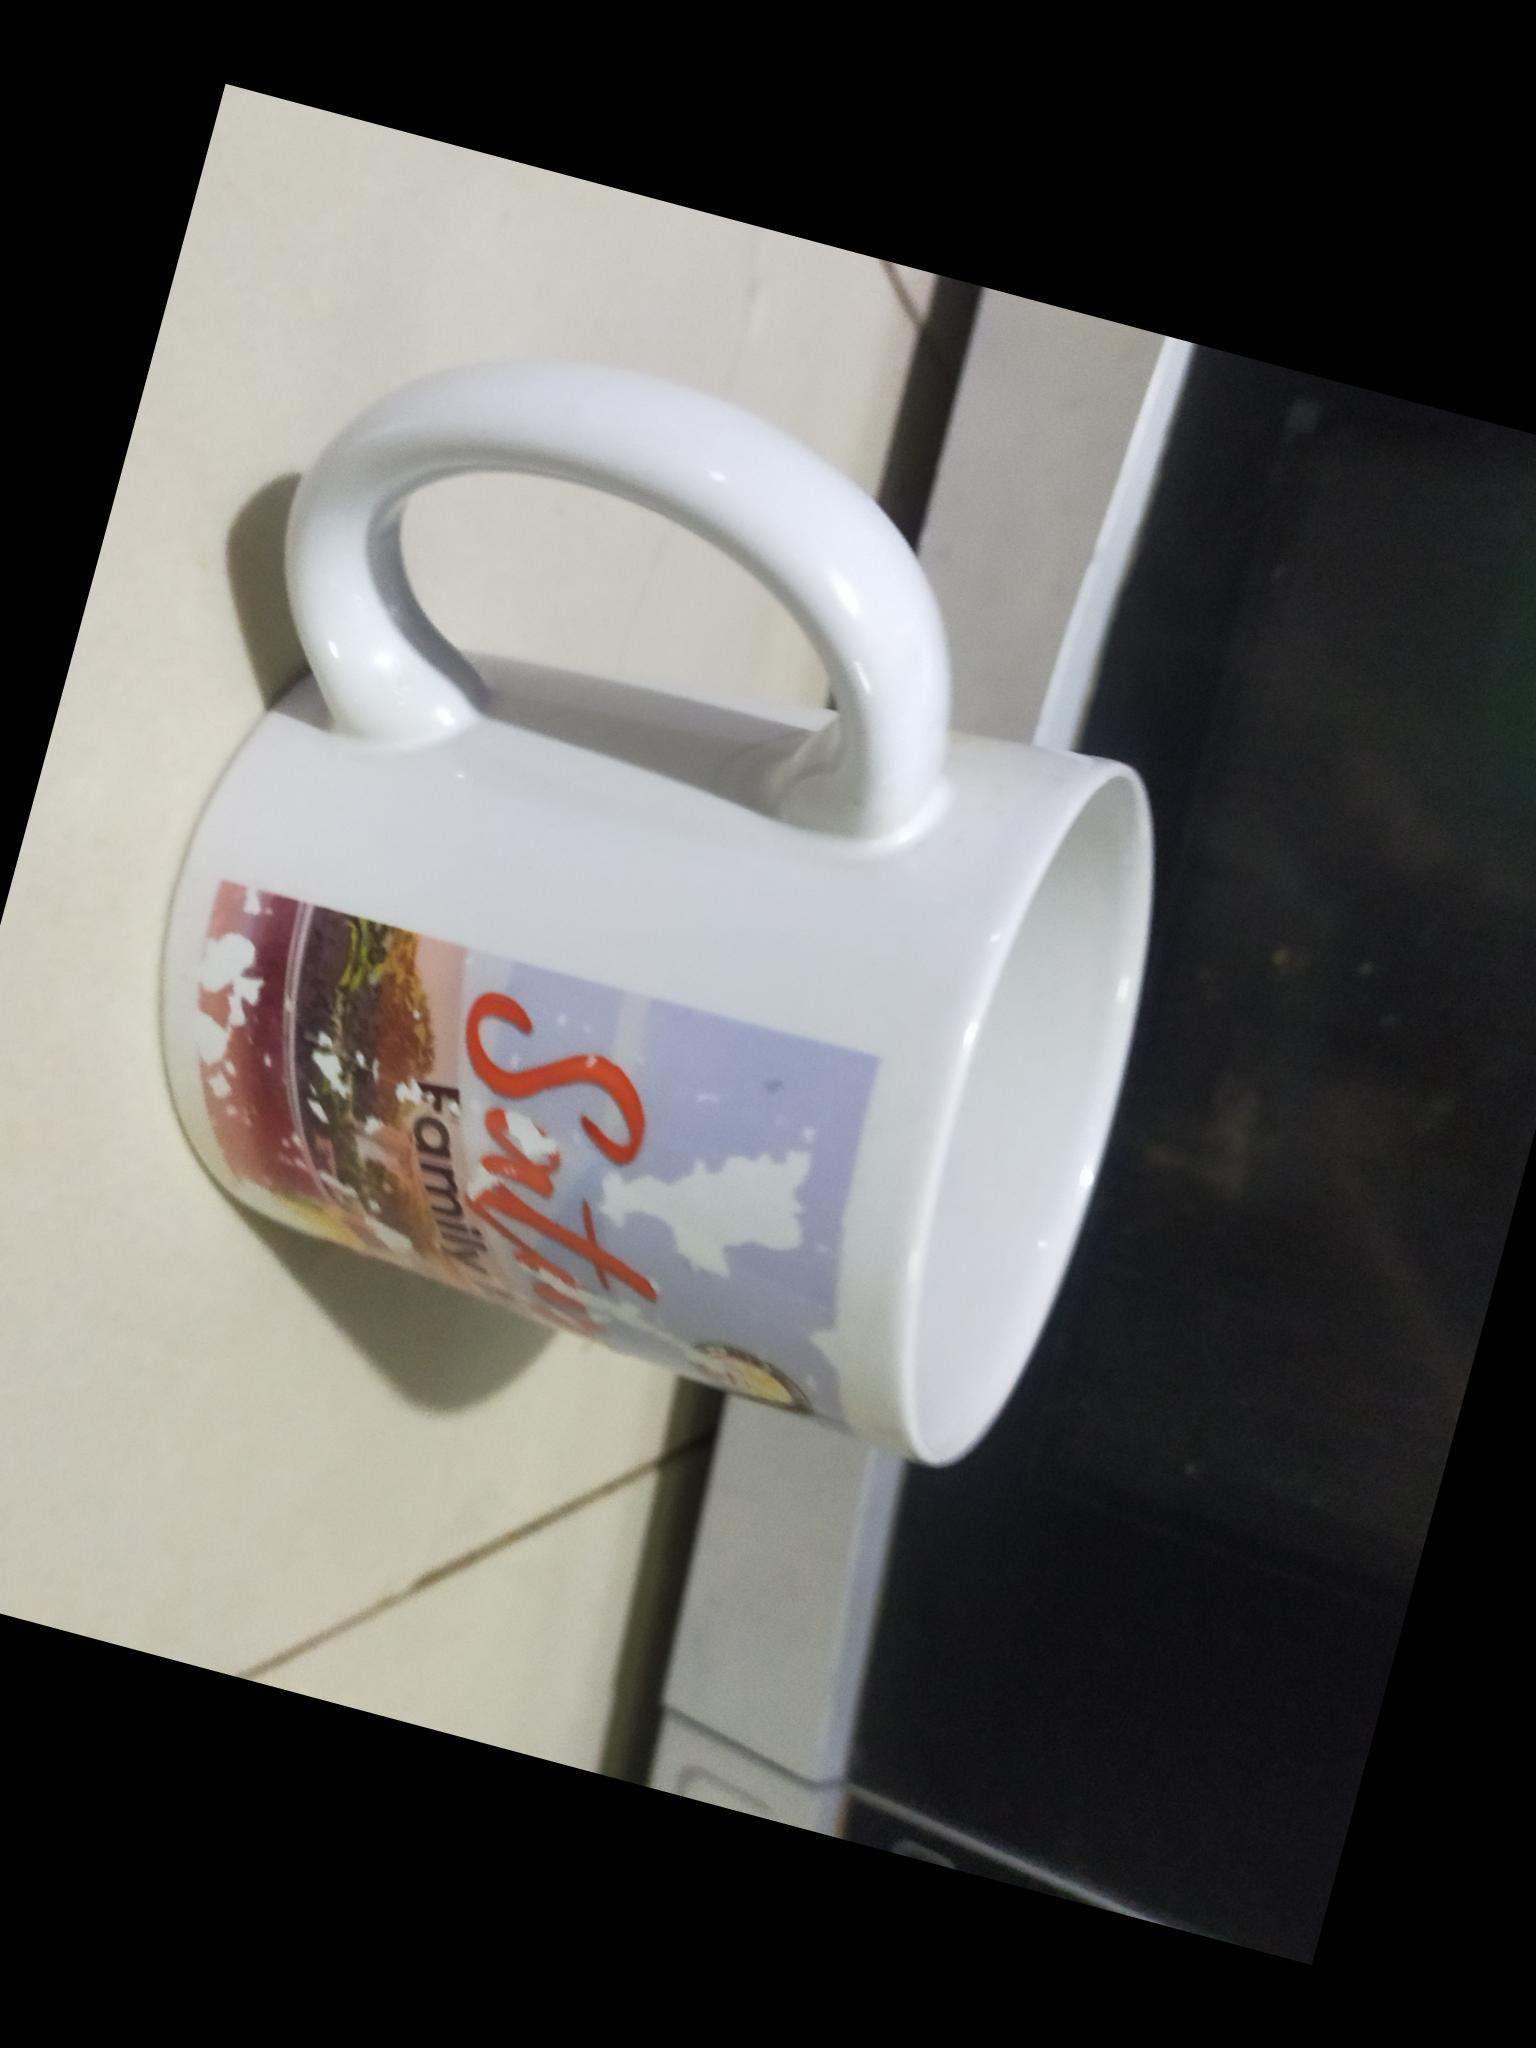Coffee Mug: (82, 297, 1260, 1485)
